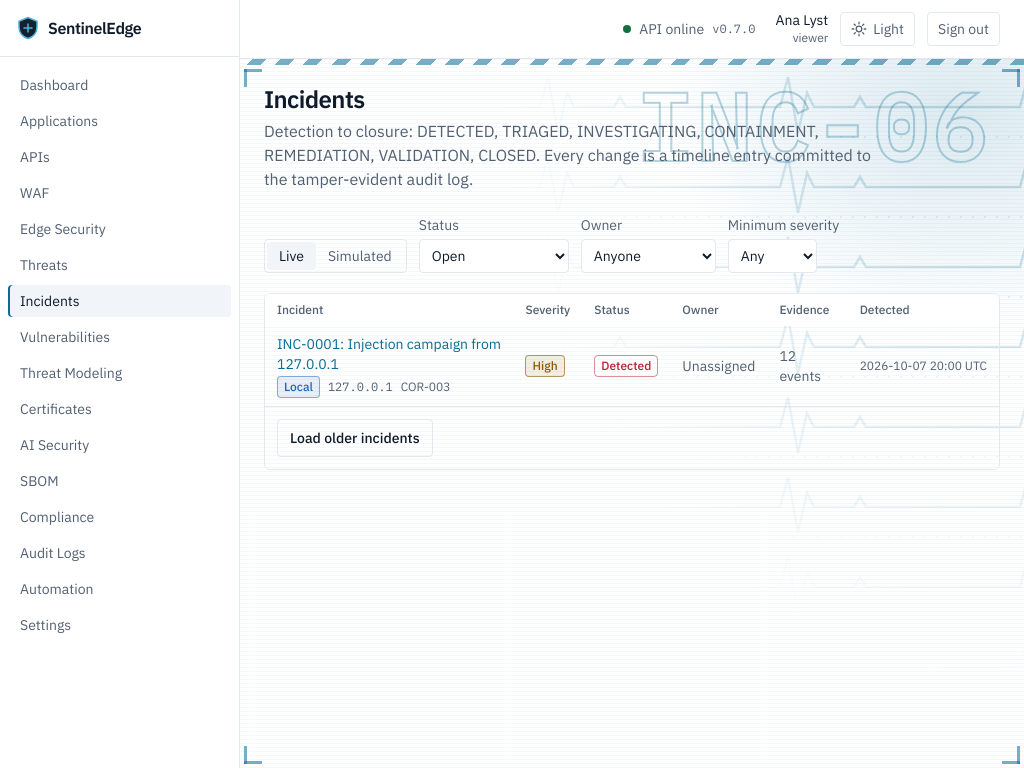
Test: incidents list › loads older incidents page by page
Click the button "Load older incidents" at [355, 438], box x1=277 y1=419 x2=433 y2=457
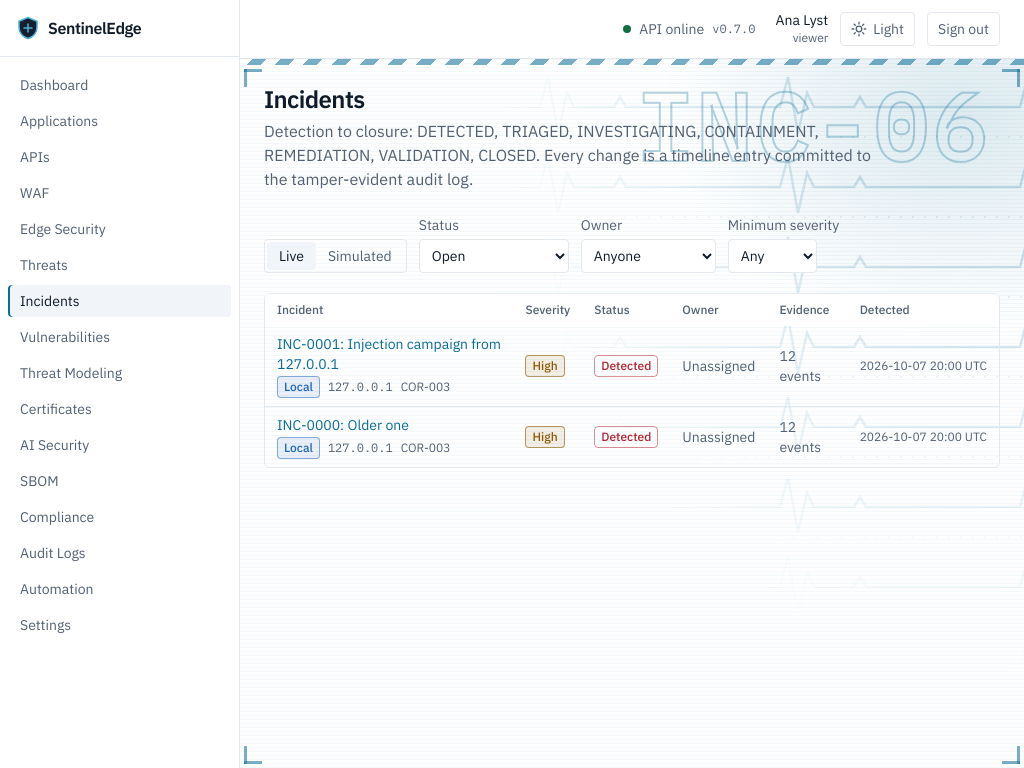
expect the link "INC-0001: Injection campaign from 127.0.0.1" is shown: met, box x1=277 y1=335 x2=501 y2=373
expect the link "INC-0000: Older one" is shown: met, box x1=277 y1=416 x2=409 y2=434
expect the button "Load older incidents" is gone: met
